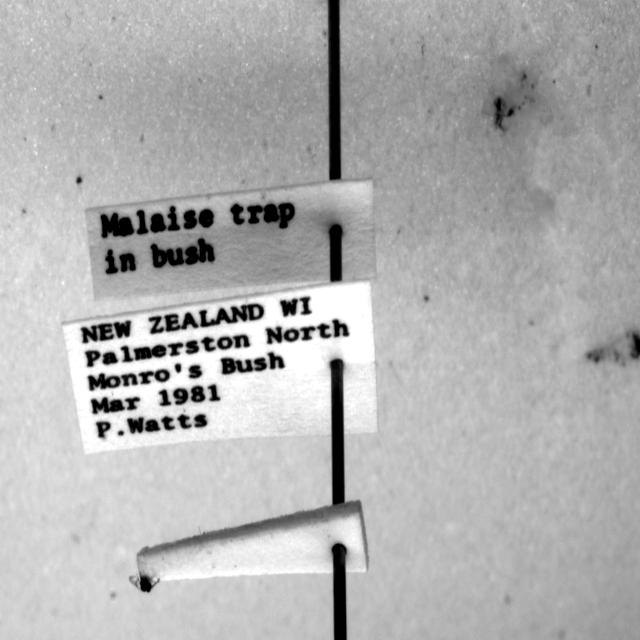typed_label: (62, 281, 378, 454), (86, 180, 376, 298)
